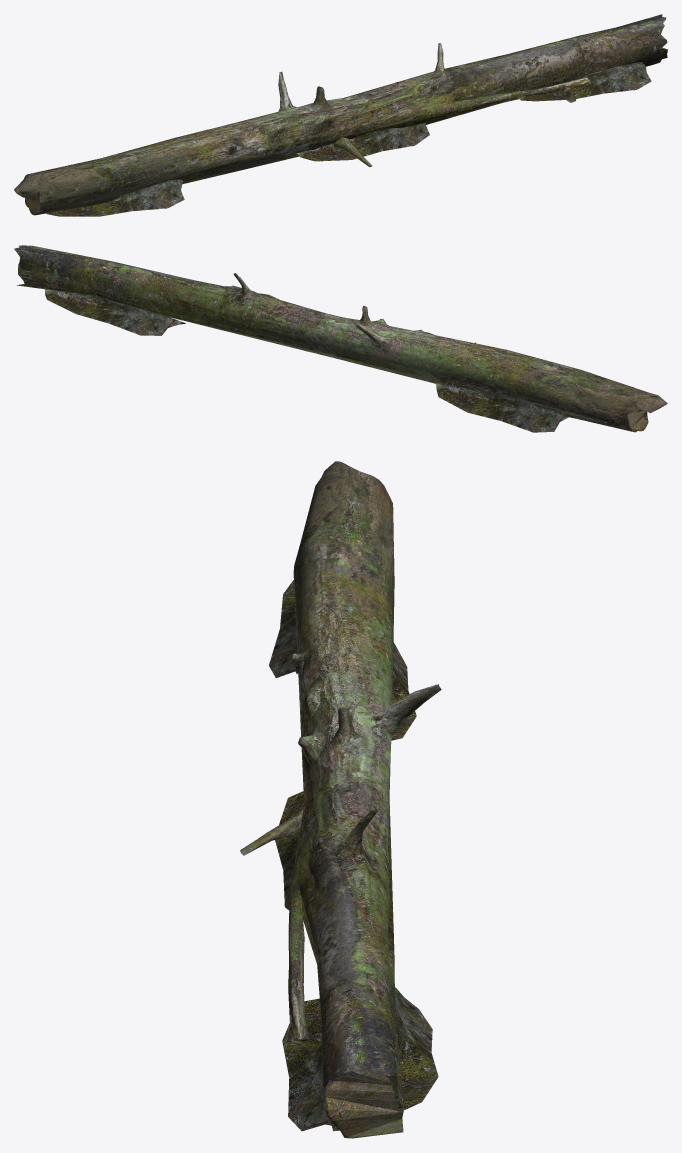
File: PW_Tree_Log_02.fbx
The picture shows the model from 3 angles, top to bottom: view 1: azimuth 30°, elevation 25°; view 2: azimuth 150°, elevation 25°; view 3: azimuth 270°, elevation 25°; orthographic projection. The views are drawn at different scales.
Visible parts, largest first — view 1: PW_Tree_Log_02_LOD0; view 2: PW_Tree_Log_02_LOD0; view 3: PW_Tree_Log_02_LOD0.
Boxes of the visible parts, box(x1,y1,x2,y2) form: PW_Tree_Log_02_LOD0: box(14, 14, 667, 216); PW_Tree_Log_02_LOD0: box(14, 245, 667, 432); PW_Tree_Log_02_LOD0: box(240, 461, 441, 1138).
Size of what is drawn, in the model's own units: 719 by 84.76 by 97.92.
Materials: 1 (1 with a texture image).
